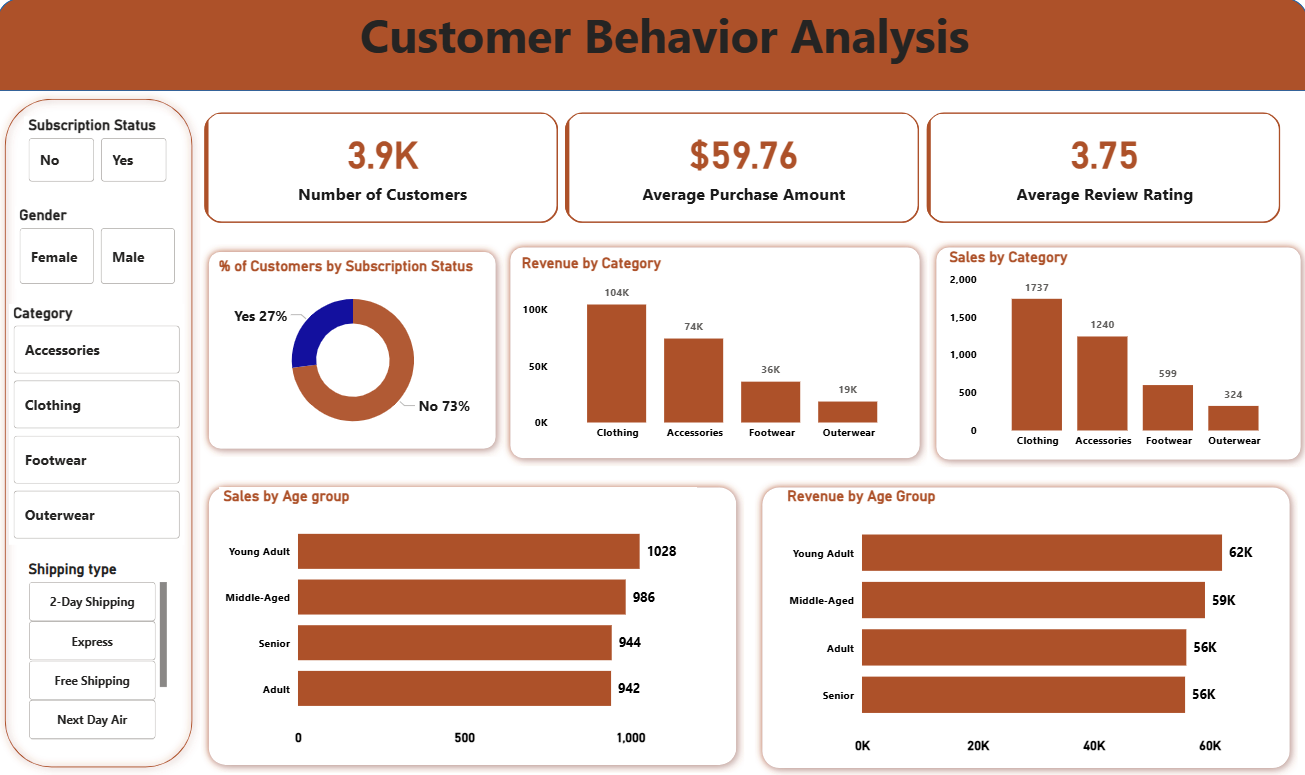

The dashboard page shown, as its layout file describes it:
{"tool":"powerbi","page":{"name":"Page 1","canvas":[1500,900],"ordinal":0},"visuals":[{"type":"shape","box":[865.9,560.7,621.1,338.9],"z":0},{"type":"cardVisual","fields":{"Data":["customer_behavior customer.Number of Customers","customer_behavior customer.Average Purchase Amount","customer_behavior customer.Average Review Rating"]},"box":[220,124.2,1267,161.5],"z":1000},{"type":"shape","box":[0,10.6,1499.4,106.5],"z":2000},{"type":"shape","box":[232.5,291,346,243.1],"z":3000},{"type":"donutChart","title":"% of Customers by Subscription Status","fields":{"Category":["customer_behavior customer.subscription_status"],"Y":["CountNonNull(customer_behavior customer.customer_id)"]},"box":[248.4,307,315.9,214.7],"z":4000},{"type":"shape","box":[578.5,285.7,486.2,259.1],"z":5000},{"type":"shape","box":[1064.7,285.7,434.7,260.8],"z":6000},{"type":"textbox","box":[62.1,10.6,1403.6,94],"z":7000},{"type":"clusteredColumnChart","title":"Revenue by Category","fields":{"Y":["Sum(customer_behavior customer.purchase_amount)"],"Category":["customer_behavior customer.category"]},"box":[594.4,303.4,454.3,221.8],"z":8000},{"type":"clusteredColumnChart","title":"Sales by Category","fields":{"Category":["customer_behavior customer.category"],"Y":["CountNonNull(customer_behavior customer.customer_id)"]},"box":[1084.2,296.3,395.7,237.8],"z":9000},{"type":"shape","box":[0,117.1,232.5,782.5],"z":10000},{"type":"advancedSlicerVisual","title":"Subscription Status","fields":{"Values":["customer_behavior customer.subscription_status"]},"box":[30.2,145.5,168.6,79.9],"z":11000},{"type":"advancedSlicerVisual","title":"Gender","fields":{"Values":["customer_behavior customer.gender"]},"box":[21.3,248.4,189.9,94],"z":12000},{"type":"advancedSlicerVisual","title":"Category","fields":{"Values":["customer_behavior customer.category"]},"box":[14.2,360.2,200.5,275],"z":13000},{"type":"advancedSlicerVisual","title":"Shipping type","fields":{"Values":["customer_behavior customer.shipping_type"]},"box":[30.2,653,168.6,209.4],"z":14000},{"type":"shape","box":[232.5,560.7,621.1,335.4],"z":15000},{"type":"clusteredBarChart","title":"Revenue by Age Group","fields":{"Y":["Sum(customer_behavior customer.purchase_amount)"],"Category":["customer_behavior customer.age_group"]},"box":[899.7,569.6,555.4,310.5],"z":16000},{"type":"clusteredBarChart","title":"Sales by Age group","fields":{"Category":["customer_behavior customer.age_group"],"Y":["CountNonNull(customer_behavior customer.customer_id)"]},"box":[253.7,569.6,546.5,301.7],"z":17000}]}

Visuals, with their boxes in screenshot pixels (x1, y1, x2, y2), scaled from the page's 1500x900 canvas onto the 1305x775 screenshot:
shape: bbox(753, 483, 1294, 774)
cardVisual - customer_behavior customer.Number of Customers x customer_behavior customer.Average Purchase Amount: bbox(191, 107, 1294, 246)
shape: bbox(0, 9, 1304, 101)
shape: bbox(202, 251, 503, 460)
"% of Customers by Subscription Status" donutChart: bbox(216, 264, 491, 449)
shape: bbox(503, 246, 926, 469)
shape: bbox(926, 246, 1304, 471)
textbox: bbox(54, 9, 1275, 90)
"Revenue by Category" clusteredColumnChart: bbox(517, 261, 912, 452)
"Sales by Category" clusteredColumnChart: bbox(943, 255, 1288, 460)
shape: bbox(0, 101, 202, 774)
"Subscription Status" advancedSlicerVisual: bbox(26, 125, 173, 194)
"Gender" advancedSlicerVisual: bbox(19, 214, 184, 295)
"Category" advancedSlicerVisual: bbox(12, 310, 187, 547)
"Shipping type" advancedSlicerVisual: bbox(26, 562, 173, 743)
shape: bbox(202, 483, 743, 772)
"Revenue by Age Group" clusteredBarChart: bbox(783, 490, 1266, 758)
"Sales by Age group" clusteredBarChart: bbox(221, 490, 696, 750)
